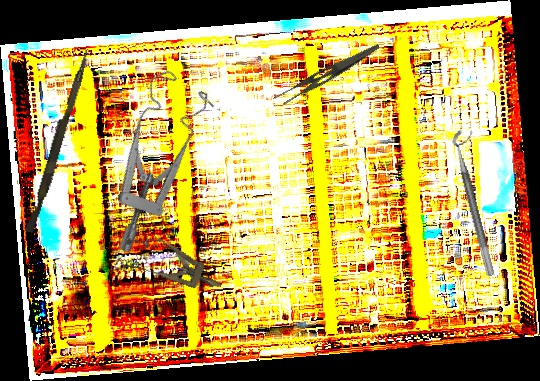Dressing Forceps: (271, 32, 381, 113)
Fixation Ring: (449, 127, 508, 277)
Pusher: (25, 46, 91, 235)
Speculum: (51, 58, 245, 257), (114, 226, 230, 306)
